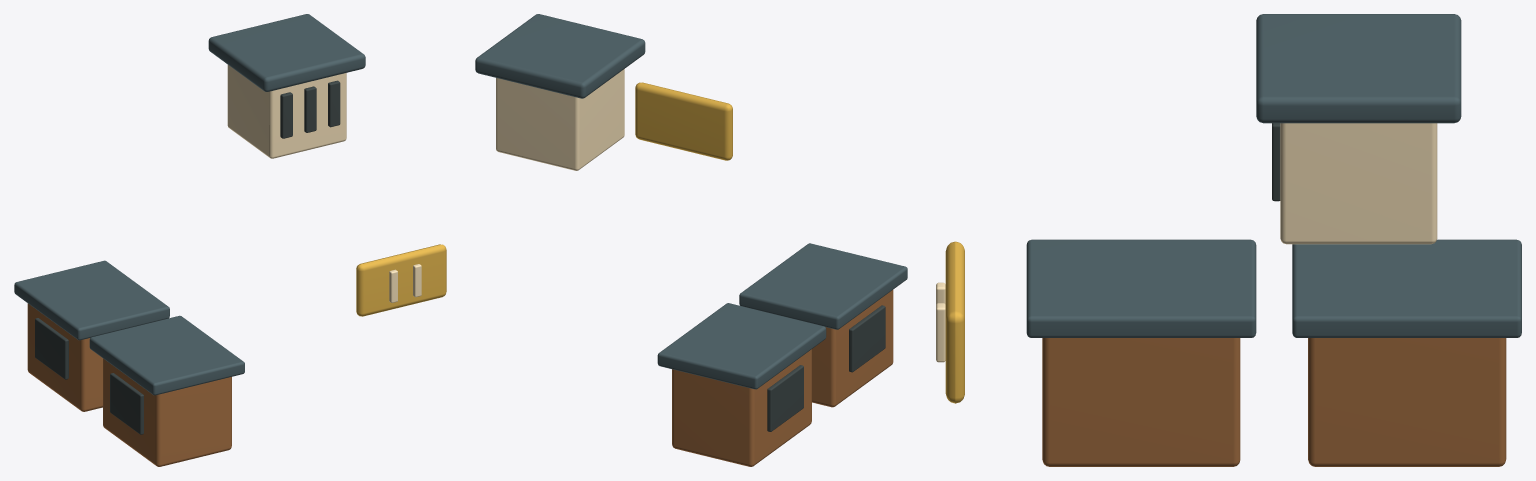
File: coop_level2.glb
The picture shows the model from 3 angles, left to right: view 1: azimuth 30°, elevation 25°; view 2: azimuth 150°, elevation 25°; view 3: azimuth 270°, elevation 25°; orthographic projection. The views are drawn at different scales.
Parts seen in each view (by area): view 1: Extra nest, Tower cap, Nest roof, Nest roof.001, Vent tower, Level plaque, Extra nest.001, Nest access.001, Nest access, Vent slat.001, Vent slat, Vent slat.002; view 2: Vent tower, Extra nest.001, Tower cap, Nest roof.001, Nest roof, Level plaque, Extra nest, Nest access, Nest access.001; view 3: Extra nest, Extra nest.001, Nest roof, Tower cap, Nest roof.001, Vent tower, Level plaque, Vent slat.002, Level II.001.
Boxes of the visible parts, left/top/right/bottom form: Extra nest: left=103, top=358, right=231, bottom=466; Tower cap: left=208, top=14, right=365, bottom=91; Nest roof: left=89, top=315, right=244, bottom=395; Nest roof.001: left=14, top=260, right=169, bottom=340; Vent tower: left=227, top=65, right=346, bottom=158; Level plaque: left=356, top=244, right=446, bottom=316; Extra nest.001: left=27, top=303, right=102, bottom=411; Nest access.001: left=35, top=318, right=68, bottom=379; Nest access: left=110, top=373, right=143, bottom=434; Vent slat.001: left=304, top=86, right=316, bottom=132; Vent slat: left=280, top=92, right=292, bottom=138; Vent slat.002: left=328, top=80, right=340, bottom=127; Vent tower: left=496, top=69, right=624, bottom=170; Extra nest.001: left=672, top=349, right=811, bottom=466; Tower cap: left=475, top=14, right=645, bottom=98; Nest roof.001: left=657, top=303, right=826, bottom=389; Nest roof: left=739, top=243, right=907, bottom=329; Level plaque: left=635, top=82, right=732, bottom=160; Extra nest: left=812, top=290, right=893, bottom=407; Nest access: left=849, top=305, right=885, bottom=372; Nest access.001: left=767, top=365, right=803, bottom=431; Extra nest: left=1042, top=338, right=1240, bottom=466; Extra nest.001: left=1308, top=338, right=1506, bottom=466; Nest roof: left=1026, top=239, right=1256, bottom=337; Tower cap: left=1256, top=14, right=1461, bottom=123; Nest roof.001: left=1292, top=239, right=1521, bottom=337; Vent tower: left=1280, top=123, right=1437, bottom=244; Level plaque: left=945, top=241, right=964, bottom=403; Vent slat.002: left=1272, top=123, right=1280, bottom=201; Level II.001: left=936, top=303, right=945, bottom=362.
Size of the model in its own units: 2.35 by 2.46 by 2.43.
